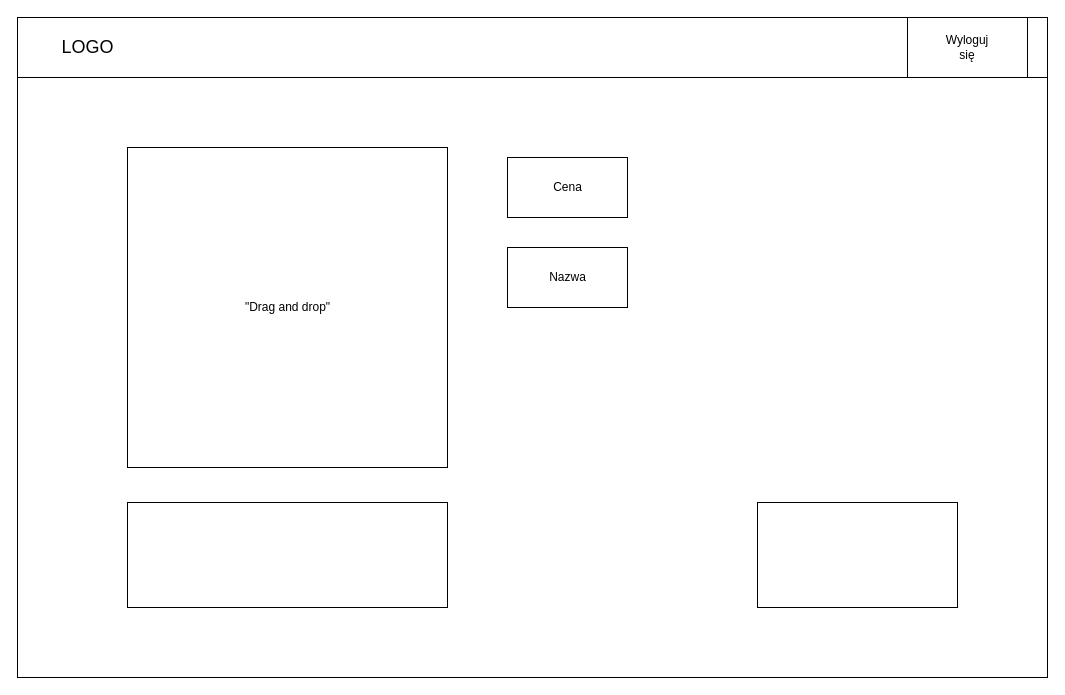
This 1065x695 diagram has some shape labels left out. The shapes that lost their labels are listed below. From the top down, each one's centre as x and y in pixels, then its label:
At pixel 287 555: "Dodaj opis...".
At pixel 857 555: "Dodaj".
